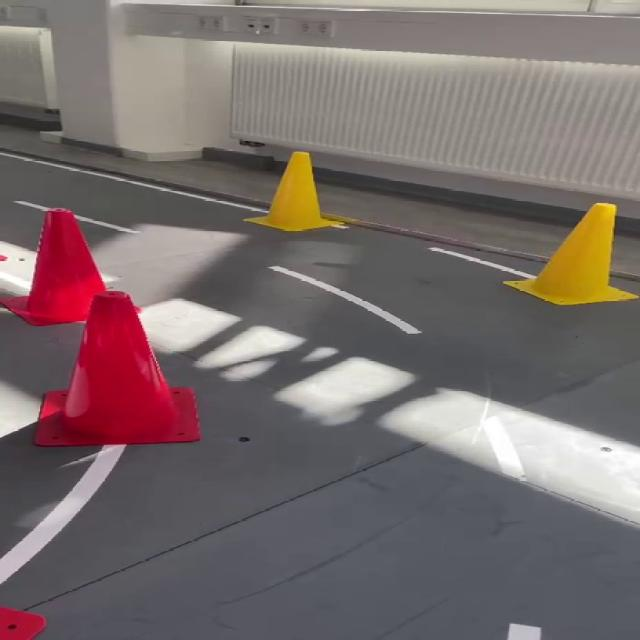Cone-red: (0, 208, 200, 446), (0, 608, 43, 639)
Cones-yellow: (505, 203, 639, 305), (246, 152, 349, 232)
